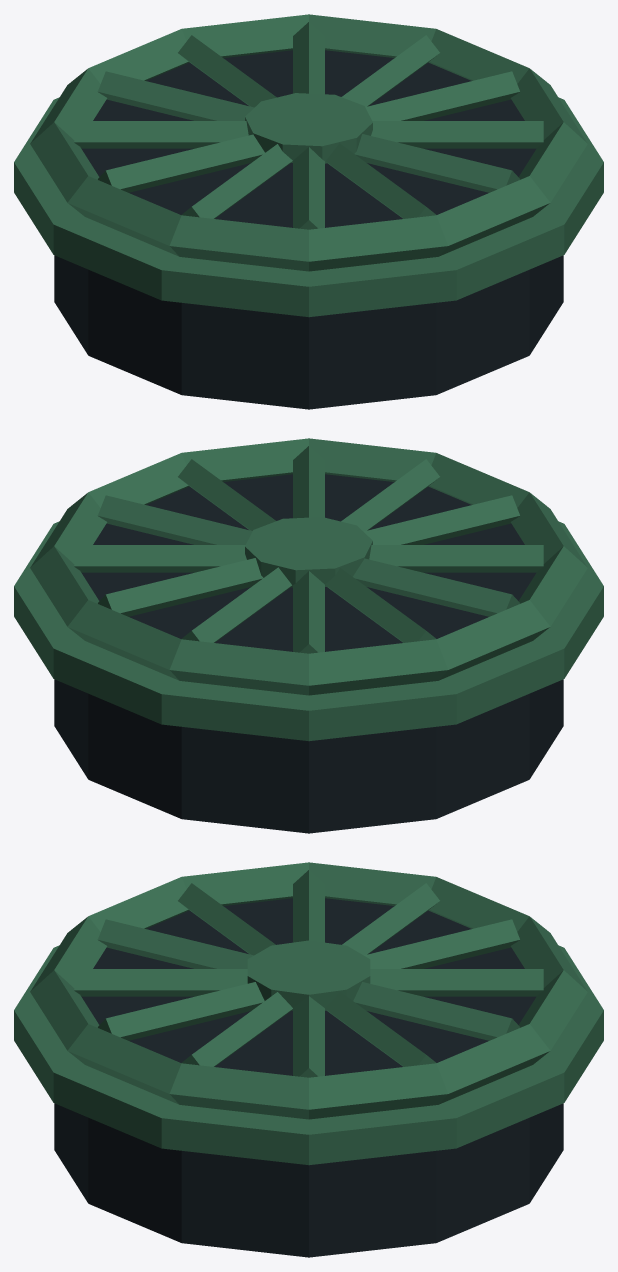
The model's file is b05_round_landscape_area_drain.glb.
3 renders of one model, top to bottom at view 1: azimuth 30°, elevation 25°; view 2: azimuth 150°, elevation 25°; view 3: azimuth 270°, elevation 25°, orthographic.
Visible parts, largest first — view 1: b05_round_landscape_area_drain; view 2: b05_round_landscape_area_drain; view 3: b05_round_landscape_area_drain.
Boxes of the visible parts, x1=… form: b05_round_landscape_area_drain: x1=14, y1=14, x2=603, y2=409; b05_round_landscape_area_drain: x1=14, y1=438, x2=603, y2=833; b05_round_landscape_area_drain: x1=14, y1=862, x2=603, y2=1257.
Bounding box in the file's own units: 0.44 × 0.15 × 0.44.
